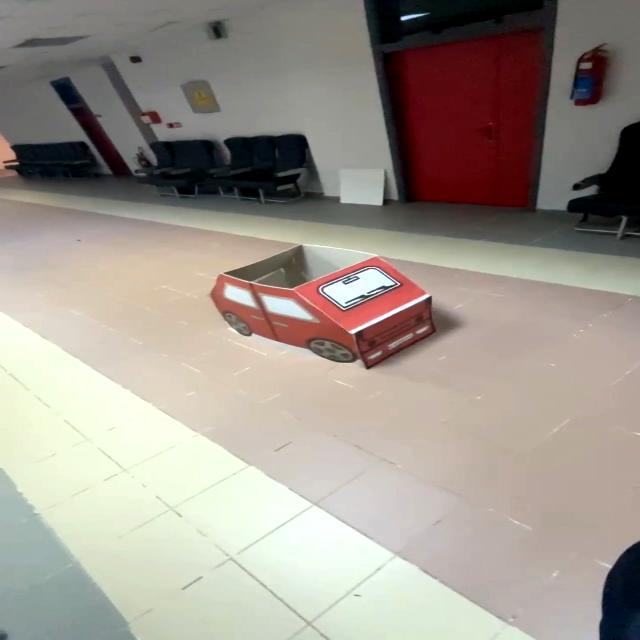red_car: (181, 231, 516, 391)
